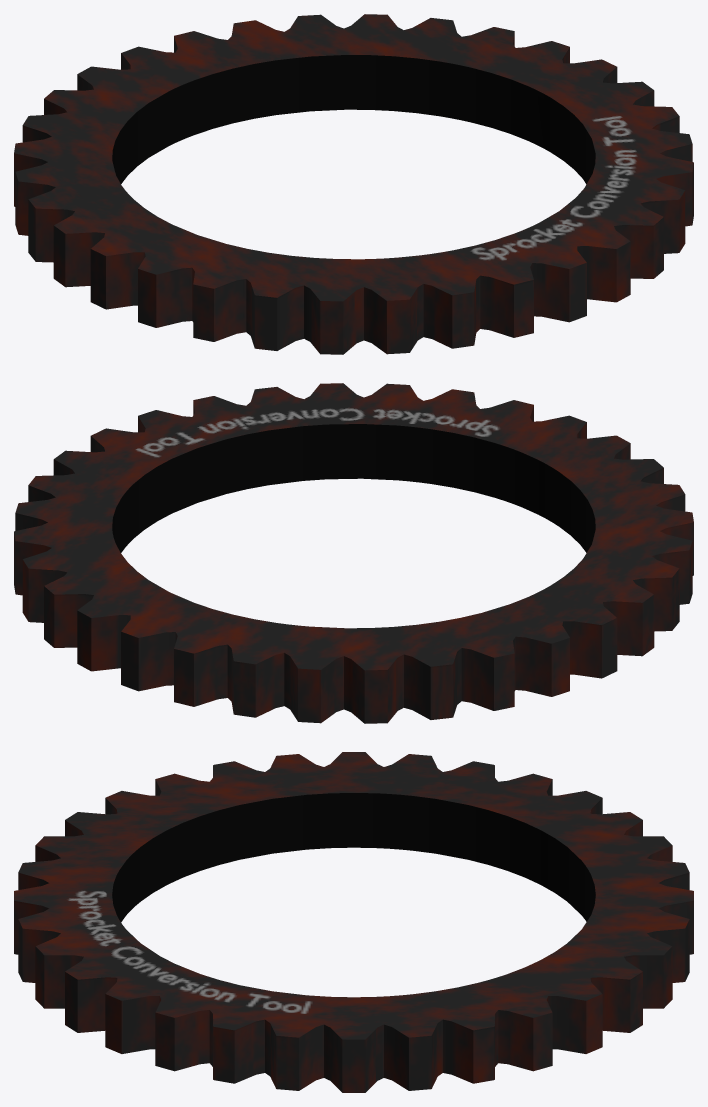
The model's file is Gear.glb.
3 views of the same model, one above another, from view 1: azimuth 30°, elevation 25°; view 2: azimuth 150°, elevation 25°; view 3: azimuth 270°, elevation 25° (orthographic).
Parts seen in each view (by area): view 1: Gear.export; view 2: Gear.export; view 3: Gear.export.
Boxes of the visible parts, bbox=[...] form: Gear.export: bbox=[14, 14, 693, 354]; Gear.export: bbox=[14, 383, 693, 723]; Gear.export: bbox=[14, 752, 693, 1092].
Bounding box in the file's own units: 2.41 × 0.2144 × 2.41.
Materials: 1 (1 with a texture image).
